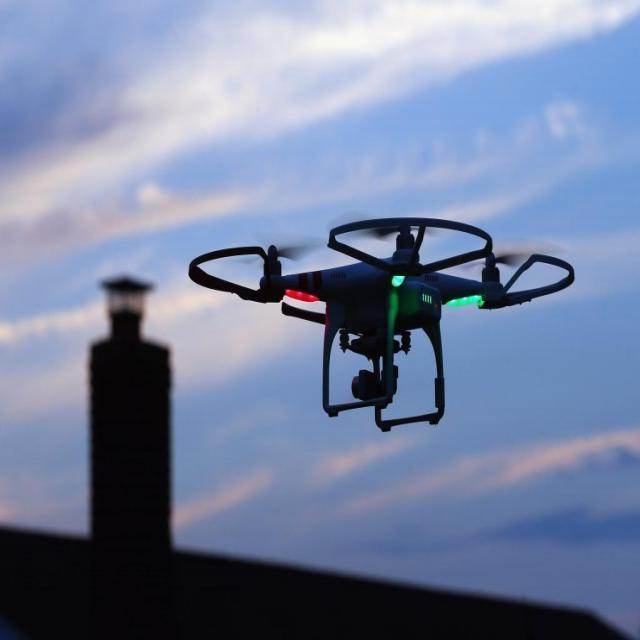UAV: (187, 212, 578, 435)
